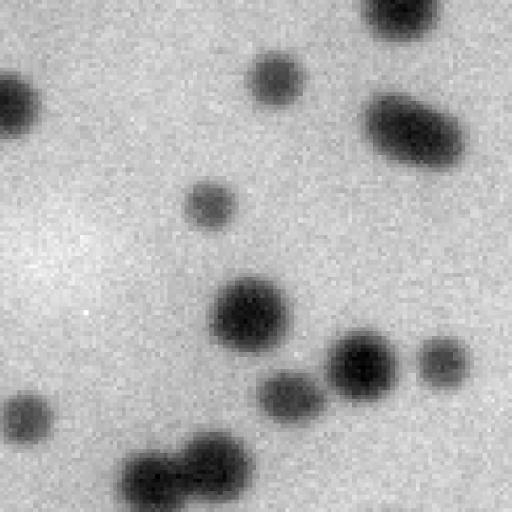Nanoparticles: (205, 272, 290, 359), (322, 322, 407, 409), (172, 430, 256, 504), (114, 445, 198, 512), (256, 365, 332, 429), (394, 110, 466, 175), (360, 89, 430, 154), (358, 0, 446, 46), (243, 45, 307, 108), (0, 389, 60, 455), (416, 331, 476, 393), (184, 174, 236, 238), (0, 65, 40, 141)
